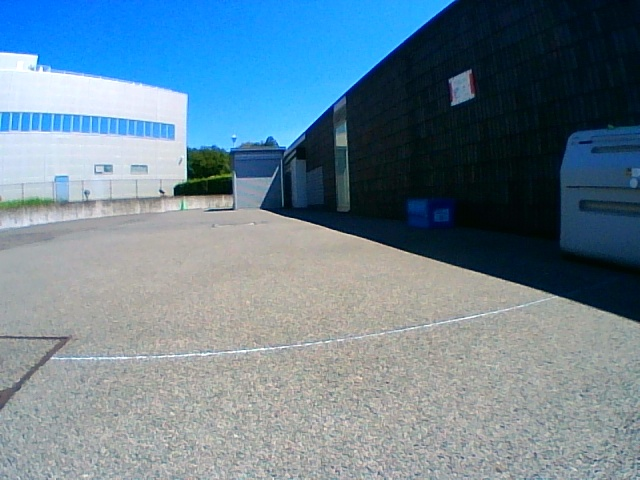blue_box: (408, 200, 452, 227)
tag: (435, 209, 449, 221)
